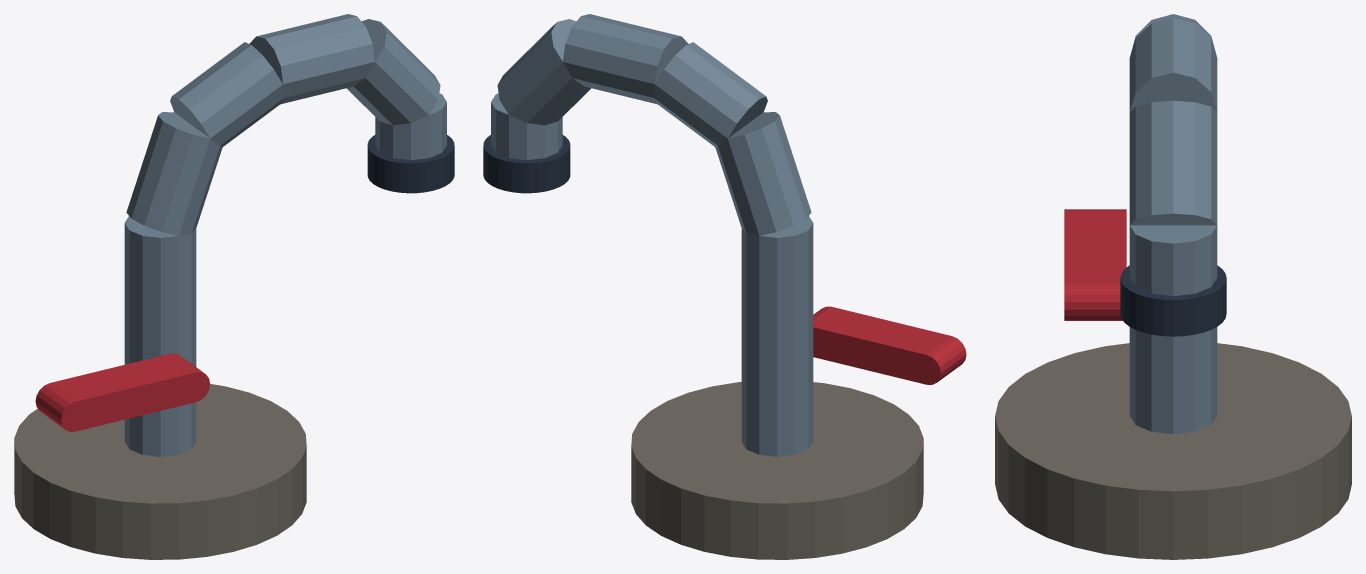
The model's file is faucet.glb.
3 views of the same model, side by side, from view 1: azimuth 30°, elevation 25°; view 2: azimuth 150°, elevation 25°; view 3: azimuth 270°, elevation 25° (orthographic). The views are drawn at different scales.
Visible parts, largest first — view 1: base, pipe0, lever, pipe1, pipe3, pipe2, pipe4, outlet, pipe5; view 2: base, pipe0, lever, pipe1, pipe3, pipe2, pipe4, outlet, pipe5; view 3: base, pipe4, pipe0, pipe3, lever, pipe5, outlet.
Part boxes in pixels (x1,y1,x2,y2): base: (14,384,306,559); pipe0: (124,216,196,456); lever: (35,353,209,431); pipe1: (126,112,222,235); pipe3: (249,14,374,104); pipe2: (170,42,284,146); pipe4: (347,19,440,125); outlet: (367,135,454,193); pipe5: (375,93,446,160); base: (631,382,923,559); pipe0: (741,216,813,456); lever: (813,306,966,384); pipe1: (715,112,811,235); pipe3: (563,14,688,104); pipe2: (653,42,767,146); pipe4: (497,19,590,125); outlet: (483,135,570,193); pipe5: (491,93,562,160); base: (995,343,1351,559); pipe4: (1129,100,1217,225); pipe0: (1129,327,1217,434); pipe3: (1129,18,1217,111); lever: (1064,209,1126,320); pipe5: (1129,225,1217,296); outlet: (1120,265,1226,336).
Bounding box in the file's own units: 1.36 × 1.31 × 0.8.
